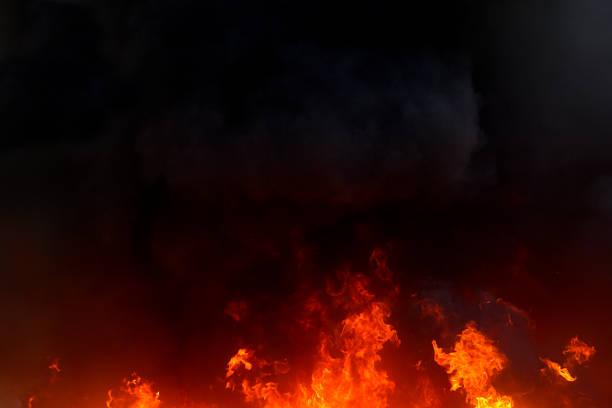Fire: (26, 270, 604, 408)
